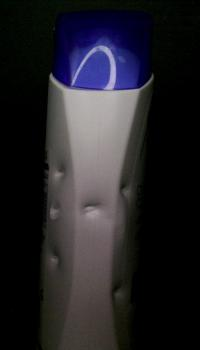dent_unacceptable: (45, 241, 73, 276), (76, 198, 108, 221), (110, 179, 138, 205), (48, 160, 74, 186), (105, 280, 128, 306), (49, 196, 67, 223)
